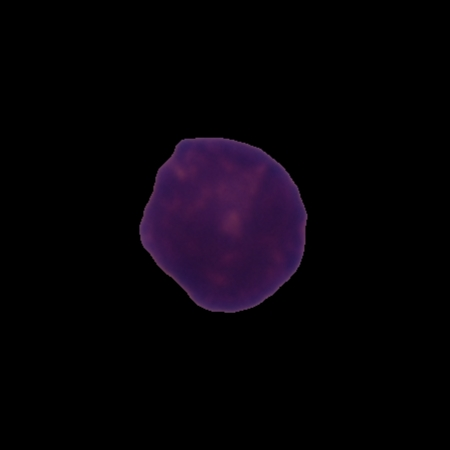HEM: (135, 133, 311, 317)
